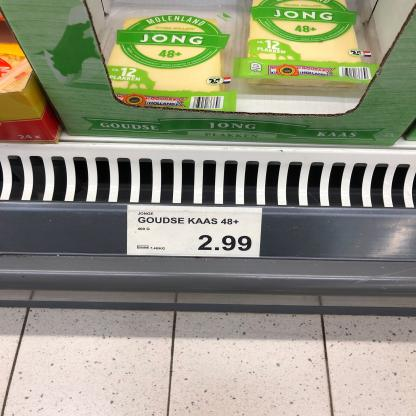prtg: (128, 206, 263, 258)
